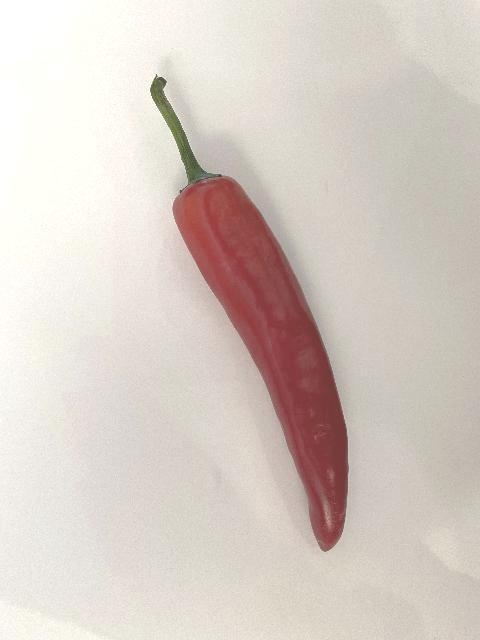chilli: (149, 74, 352, 554)
